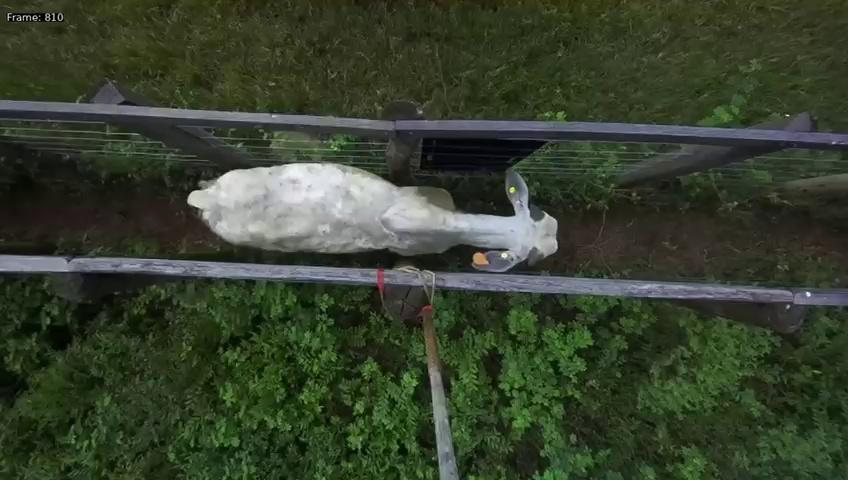cattle: (182, 150, 560, 271)
